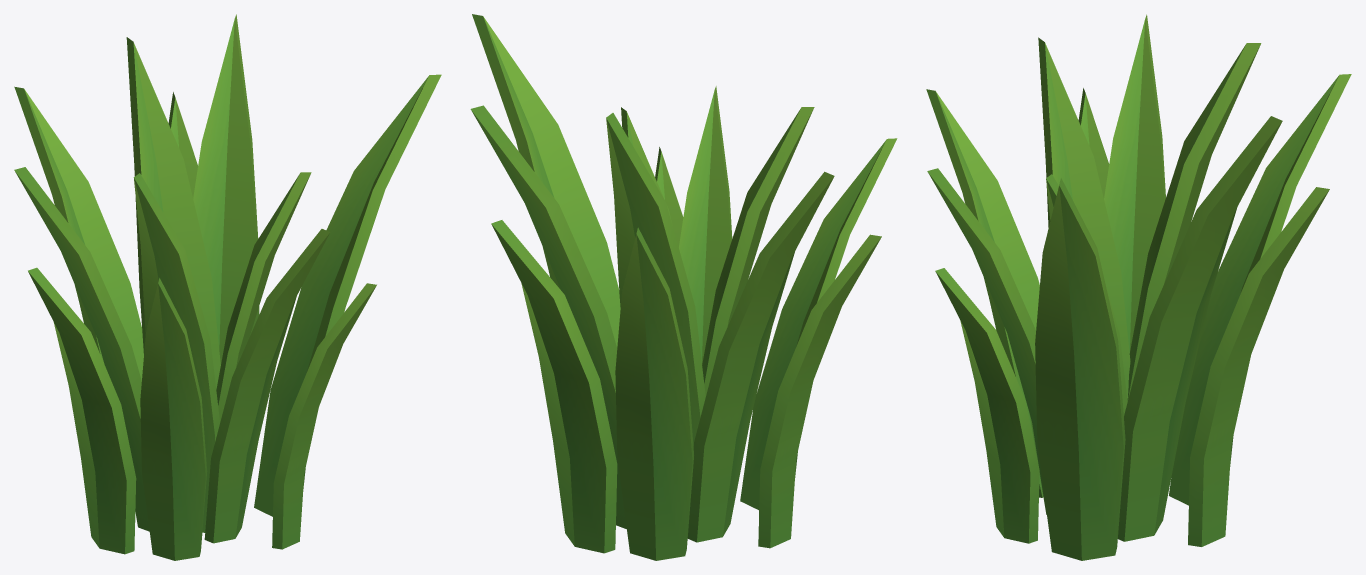
Rendered from gplant_grass_c.glb.
The picture shows the model from 3 angles, left to right: view 1: azimuth 30°, elevation 25°; view 2: azimuth 150°, elevation 25°; view 3: azimuth 270°, elevation 25°; orthographic projection. The views are drawn at different scales.
Parts seen in each view (by area): view 1: model; view 2: model; view 3: model.
Part boxes in pixels (<box>): model: <box>14,14,441,560</box>; model: <box>470,14,897,560</box>; model: <box>926,14,1351,560</box>.
Size of the model in its own units: 0.8965 by 0.9352 by 0.7575.
1 material, 1 textured.
